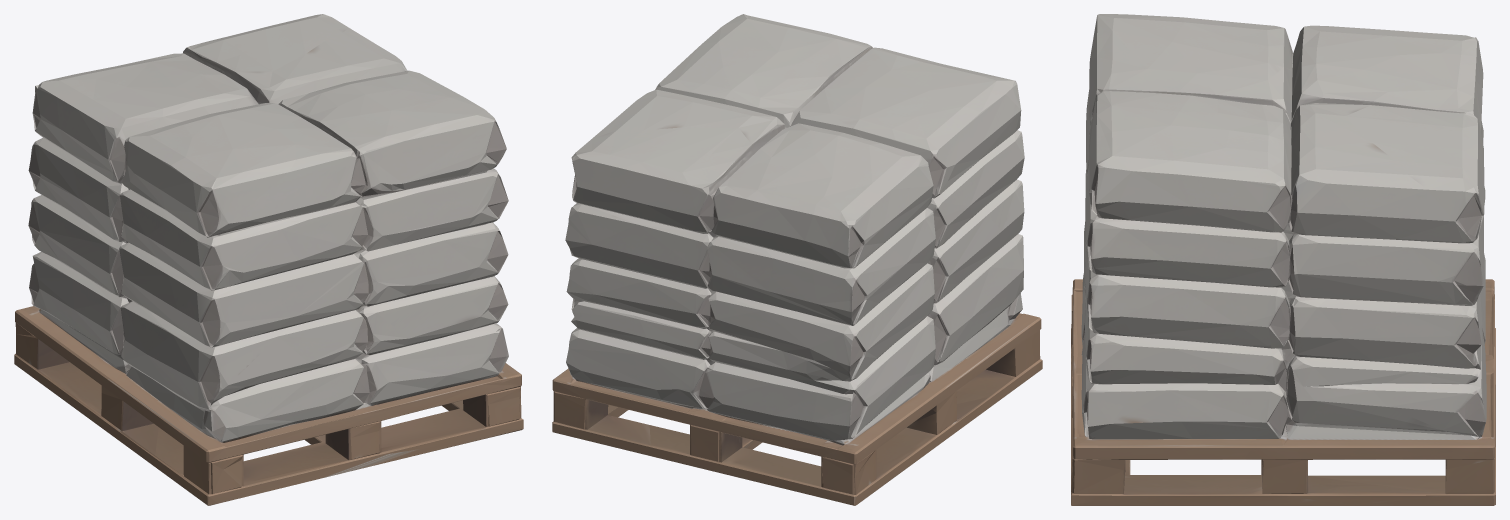
Rendered from cement_bags.glb.
3 views of the same model, side by side, from view 1: azimuth 30°, elevation 25°; view 2: azimuth 150°, elevation 25°; view 3: azimuth 270°, elevation 25° (orthographic). The views are drawn at different scales.
Visible parts, largest first — view 1: cement_bags; view 2: cement_bags; view 3: cement_bags.
Part boxes in pixels (x1=…): cement_bags: x1=14, y1=14, x2=523, y2=505; cement_bags: x1=552, y1=14, x2=1042, y2=505; cement_bags: x1=1071, y1=14, x2=1495, y2=505.
Bounding box in the file's own units: 1.1 × 1.03 × 1.17.
Materials: 1 (1 with a texture image).
